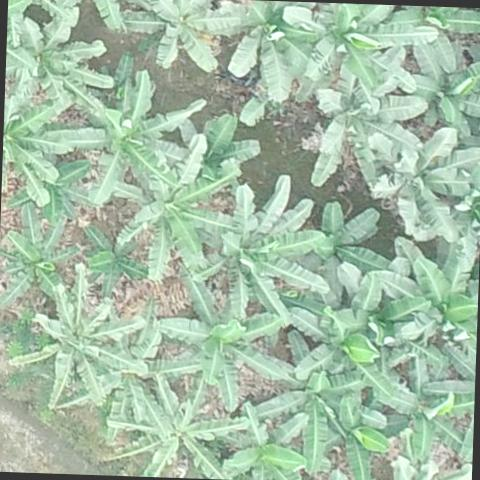Banana-plant: (50, 66, 206, 204), (150, 269, 297, 415), (196, 172, 332, 326), (9, 284, 144, 409), (286, 277, 419, 401), (314, 58, 428, 196), (109, 374, 248, 480), (255, 346, 366, 476), (111, 160, 231, 274), (366, 125, 480, 244), (283, 2, 438, 88), (368, 240, 480, 350), (371, 352, 476, 464), (6, 15, 117, 118), (229, 0, 318, 107), (122, 0, 238, 76), (0, 203, 79, 304), (324, 392, 409, 480), (164, 114, 261, 188), (3, 102, 68, 204), (407, 46, 480, 136), (228, 403, 307, 480), (309, 200, 378, 282), (81, 226, 149, 298)
